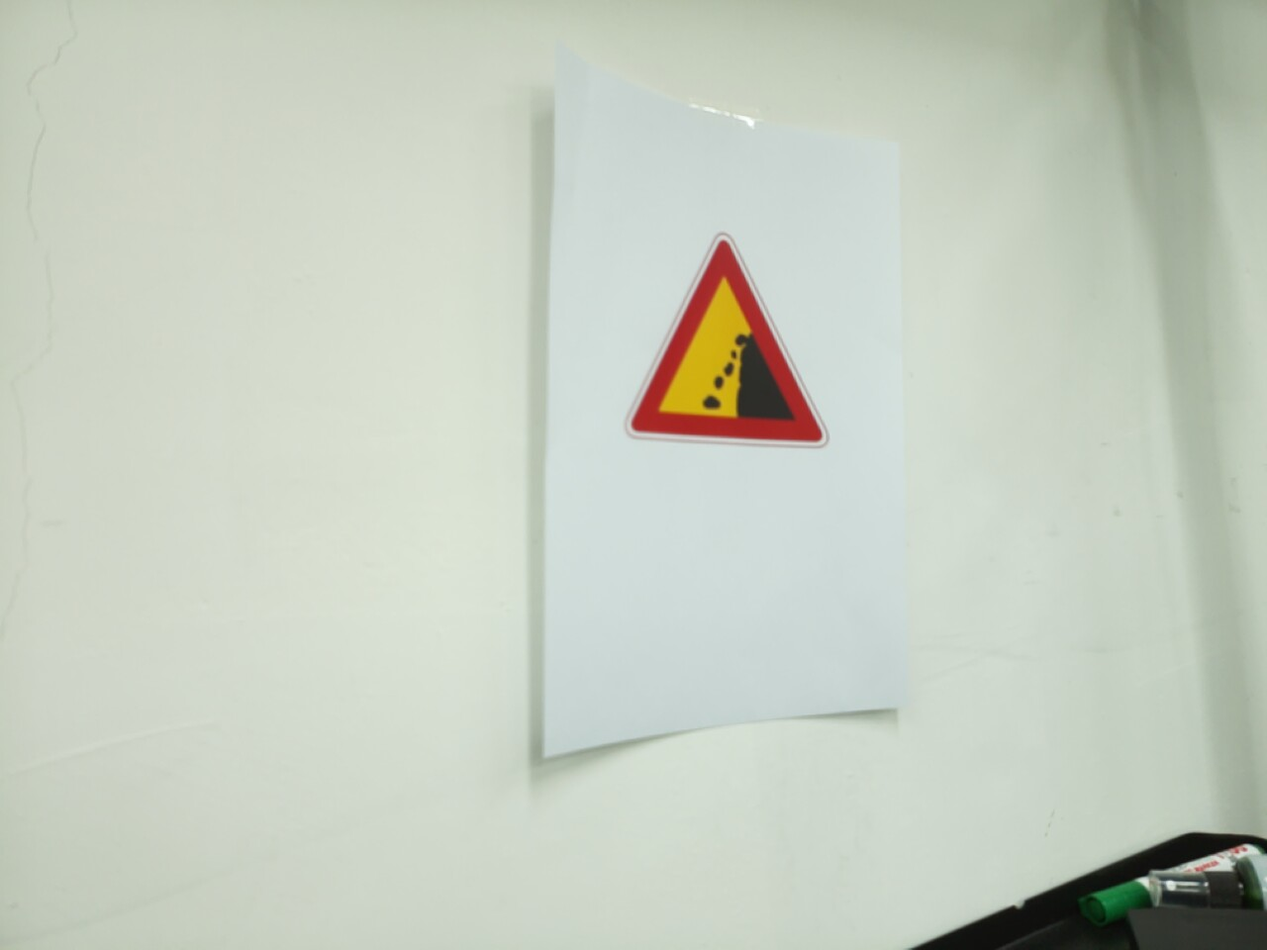falling_rocks: (624, 233, 830, 450)
